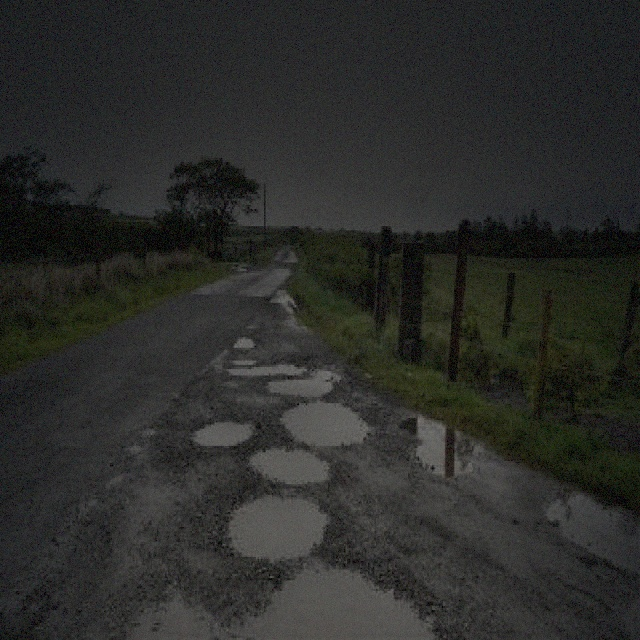pothole: (229, 557, 453, 636), (224, 488, 331, 559), (118, 582, 224, 638), (276, 397, 369, 446), (248, 442, 331, 486), (187, 414, 256, 448), (267, 369, 341, 397), (224, 362, 304, 378), (232, 333, 256, 350)
